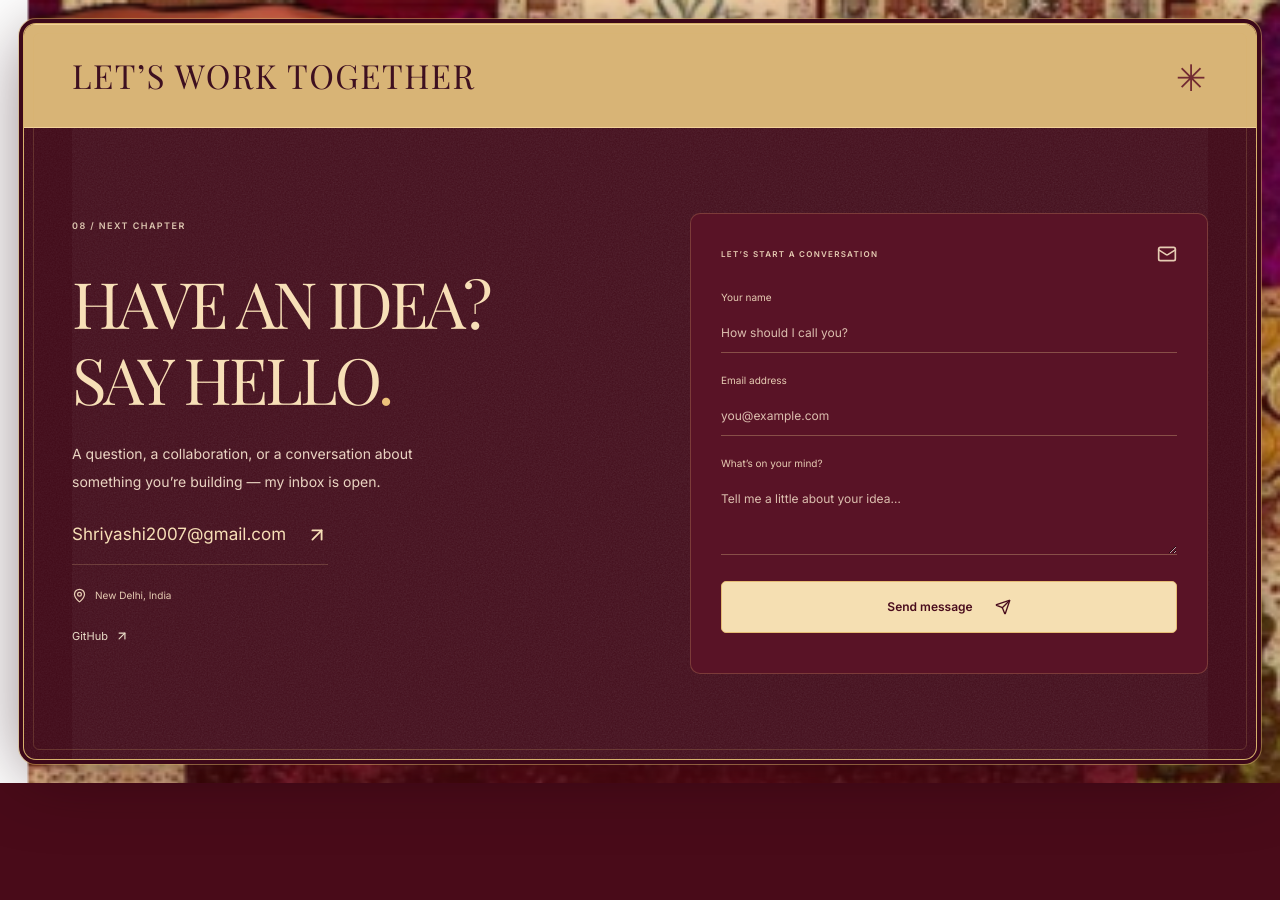
reports actual endpoint success and clears the form
Type "Shriyashi" into the field labelled "Your name" at (949, 333), box [721,314,1177,353]
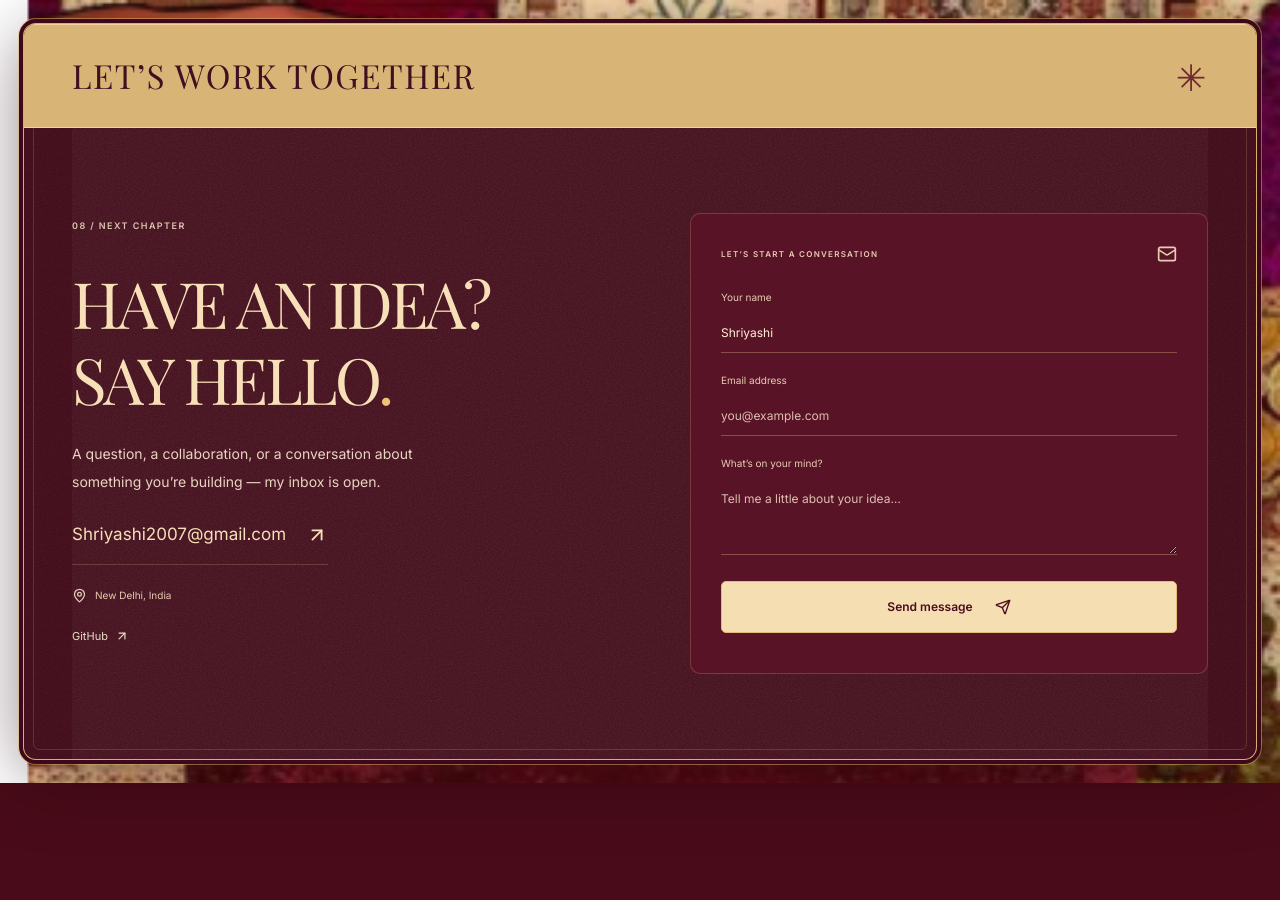
Type "test@example.com" into the field labelled "Email address" at (949, 416), box [721,397,1177,436]
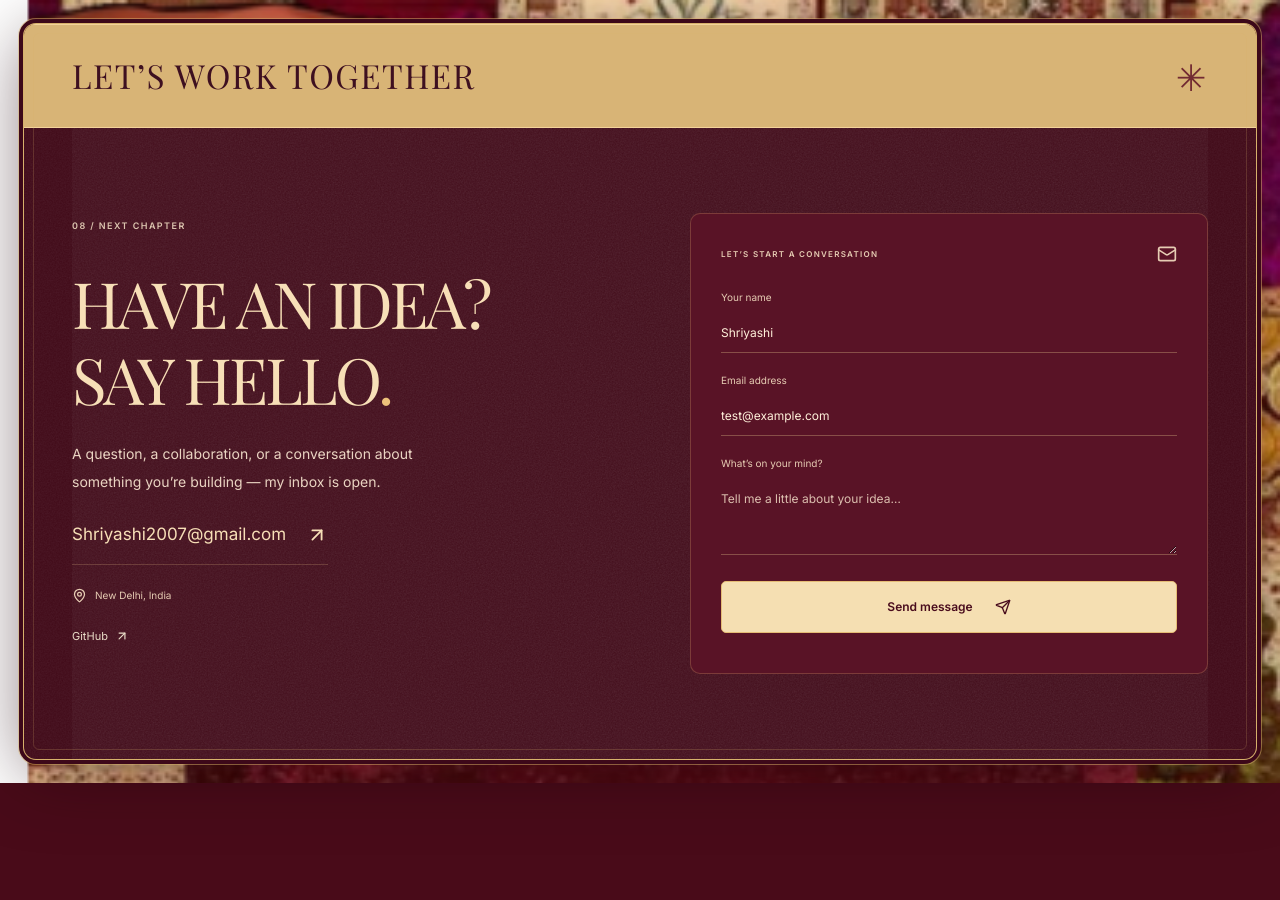
Type "Let us build something together." into the text box labelled "What’s on your mind?" at (949, 517), box [721,480,1177,555]
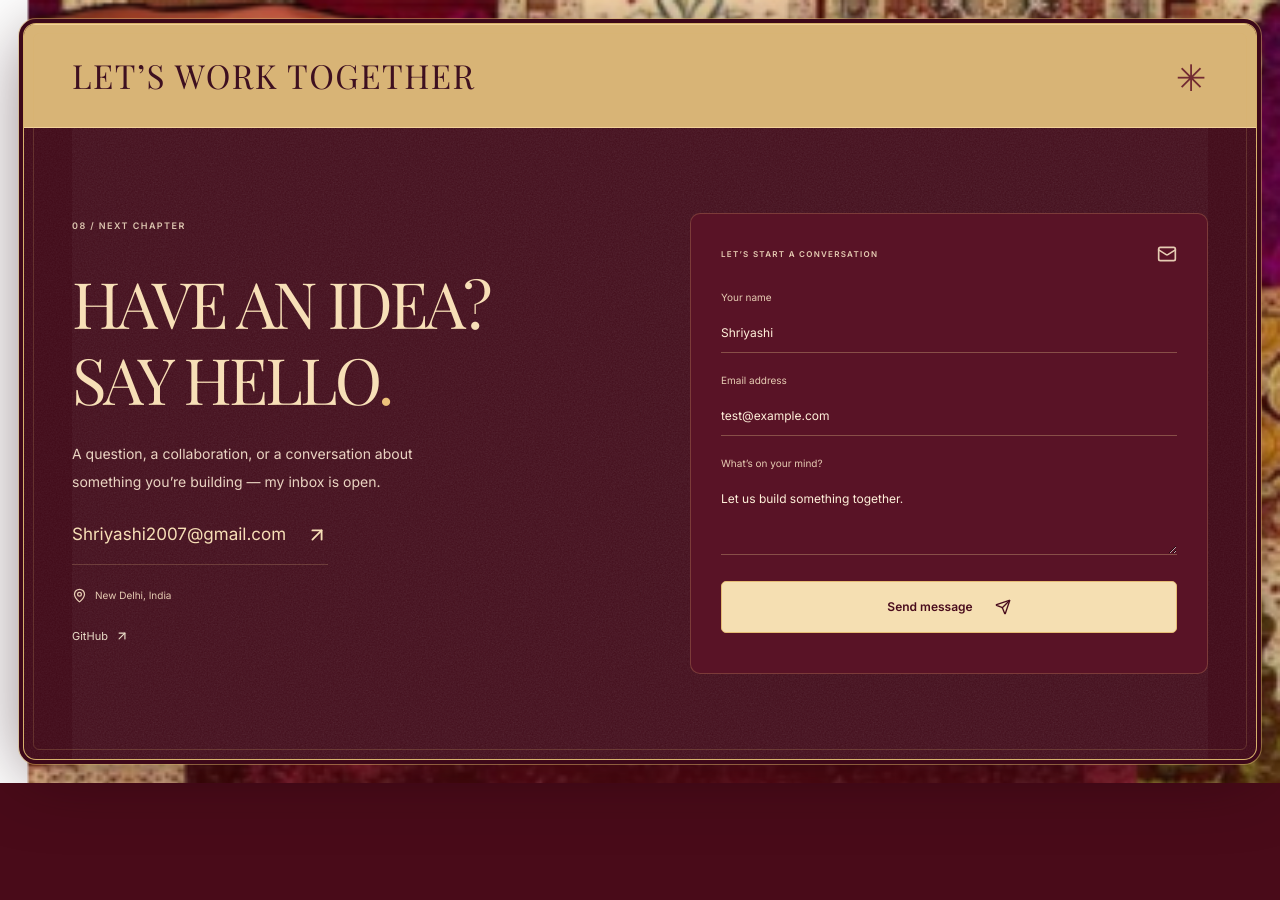
Click the button "Send message" at (949, 607), box [721,581,1177,633]
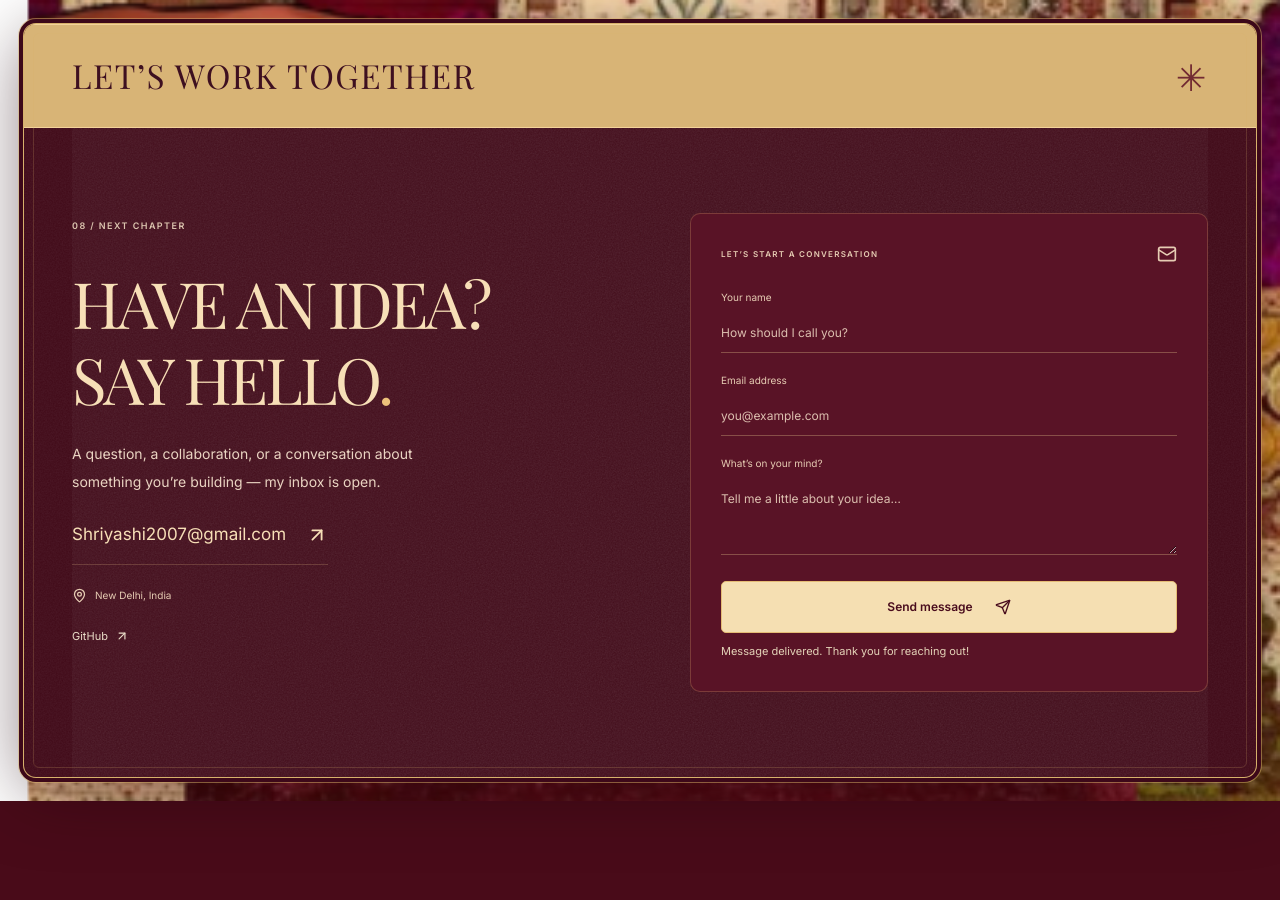
Expected: the message shows "Message delivered", [721,644,969,658]
Expected: the field labelled "Your name" is empty, [721,314,1177,353]
